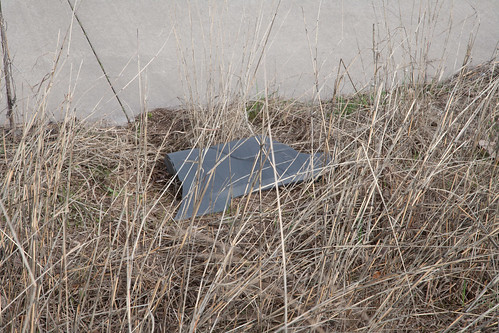trash: (164, 125, 341, 228)
vegetation: (2, 65, 499, 333)
